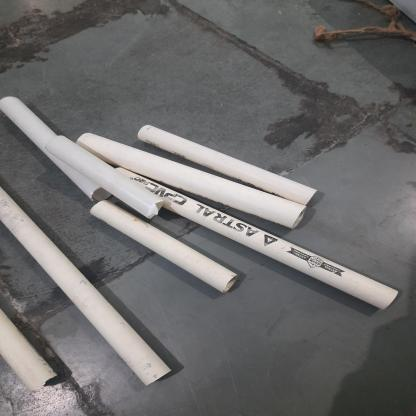PVC: (0, 97, 401, 312), (0, 186, 174, 385), (0, 307, 58, 391)
